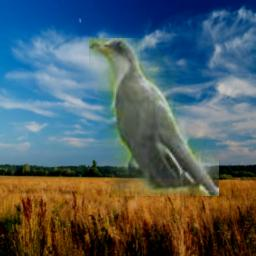Cuckoo: (89, 38, 219, 196)
